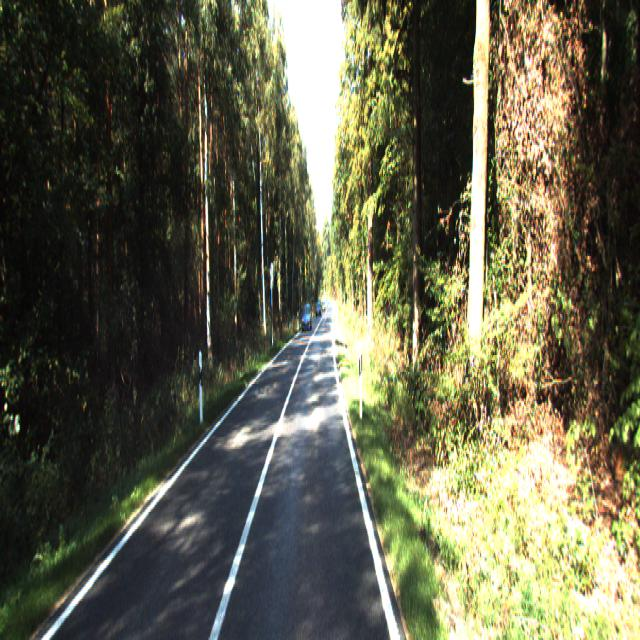Car: (302, 304, 312, 334)
